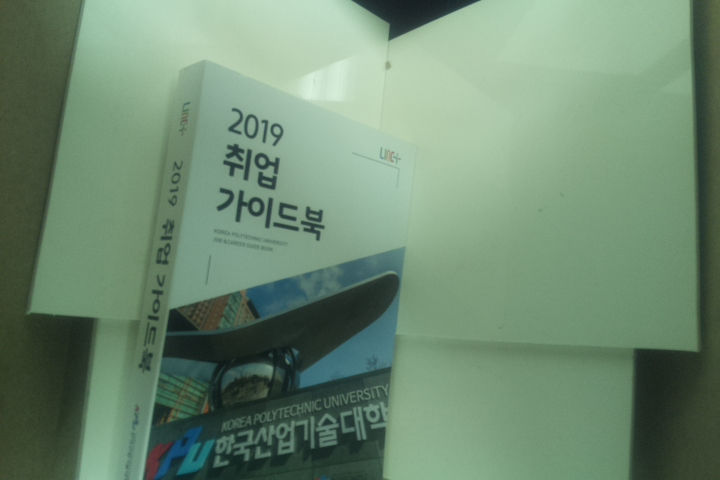book: (106, 58, 419, 480)
